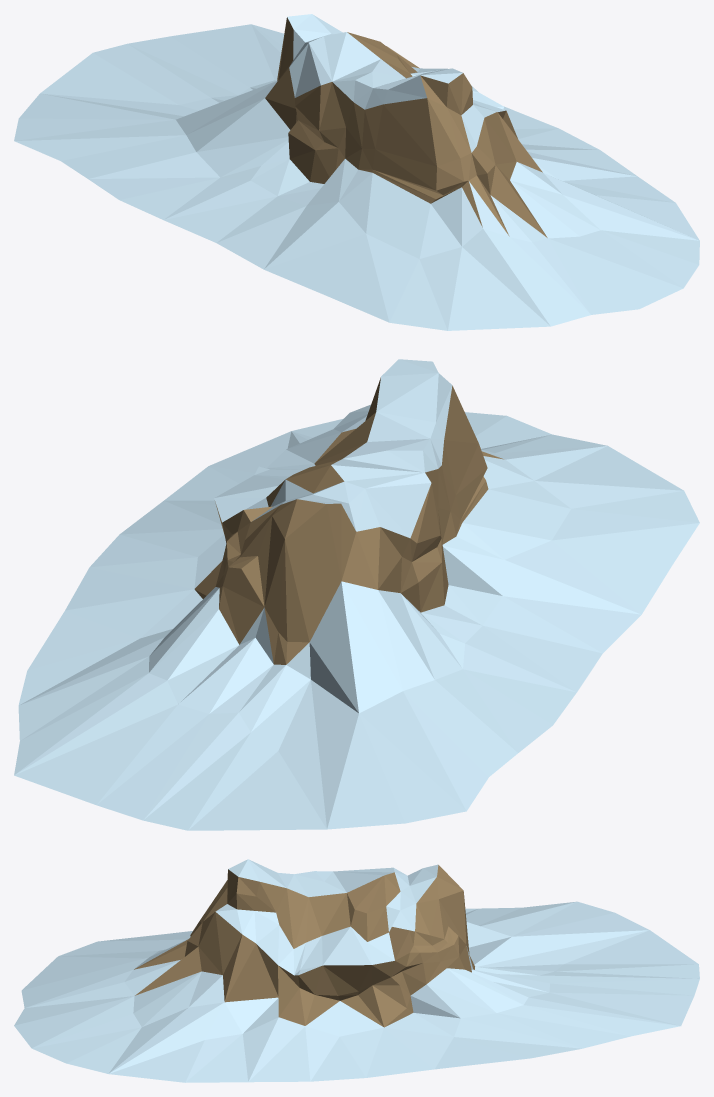
The model's file is model_polytope_snow_rock02.fbx.
3 renders of one model, top to bottom at view 1: azimuth 30°, elevation 25°; view 2: azimuth 150°, elevation 25°; view 3: azimuth 270°, elevation 25°, orthographic. The views are drawn at different scales.
Visible parts, largest first — view 1: model_polytope_snow_rock02; view 2: model_polytope_snow_rock02; view 3: model_polytope_snow_rock02.
Part boxes in pixels (x1,y1,x2,y2): model_polytope_snow_rock02: (14, 14, 699, 330); model_polytope_snow_rock02: (14, 359, 699, 830); model_polytope_snow_rock02: (14, 859, 699, 1082).
Bounding box in the file's own units: 1984 × 674 × 3173.
1 material, 1 textured.
